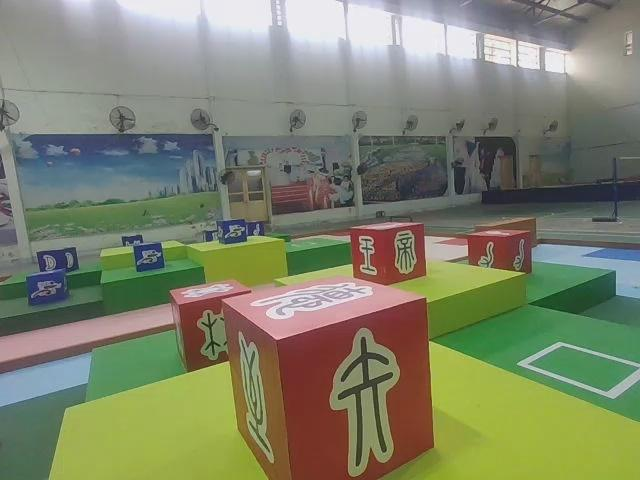R2 Fake: (218, 273, 438, 479), (348, 219, 430, 287)
R2 Real: (172, 279, 252, 372), (465, 226, 534, 277)
